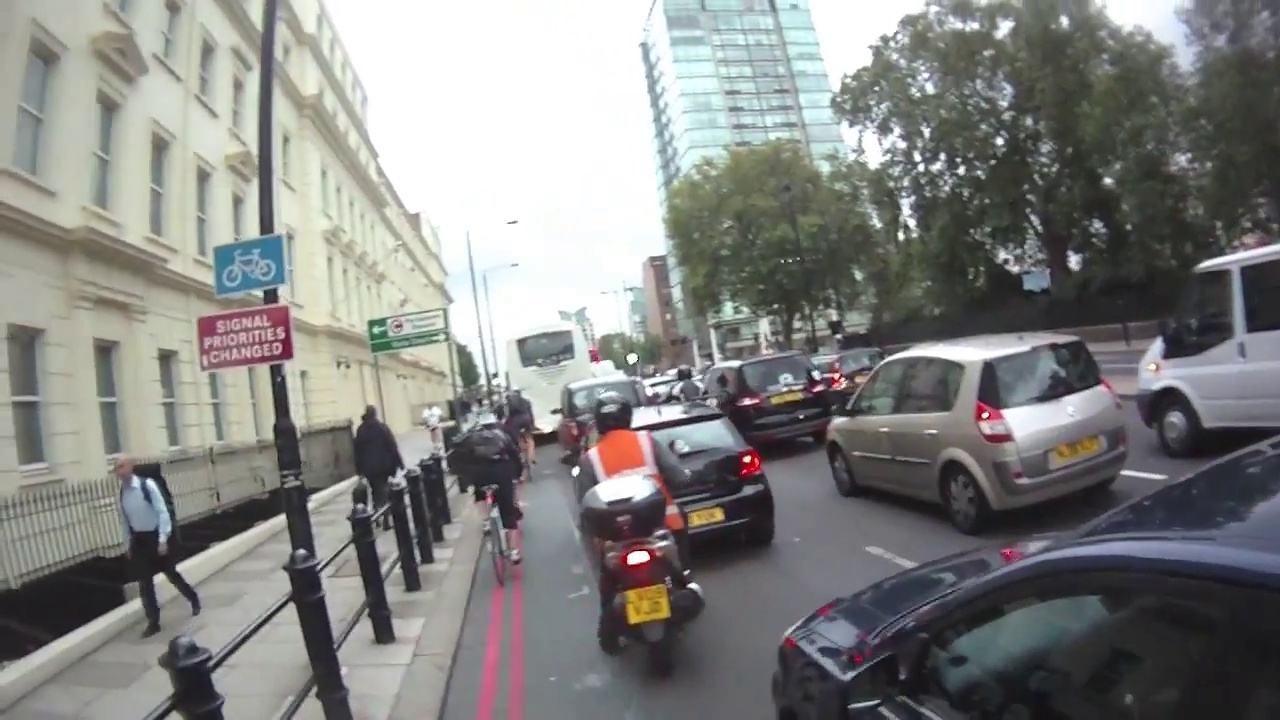cyclist_back: (580, 399, 707, 680), (461, 410, 535, 587)
